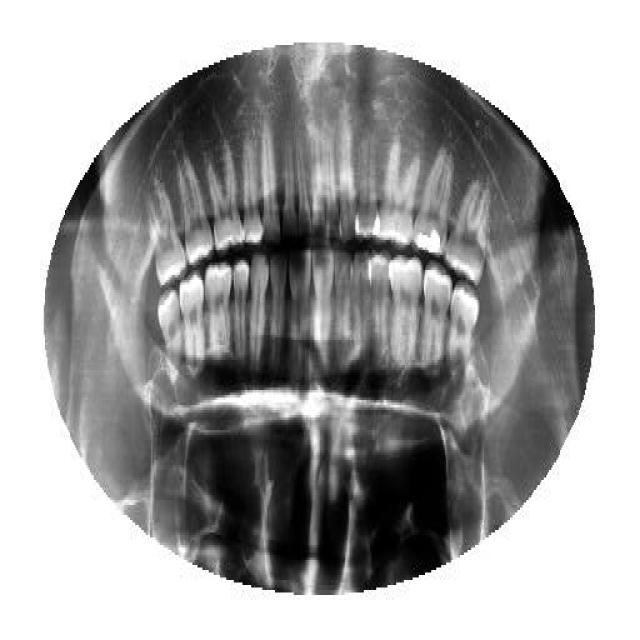Fillings: (415, 148, 454, 258)
